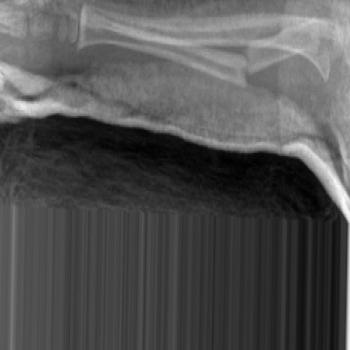Fracture: (239, 34, 255, 95)
